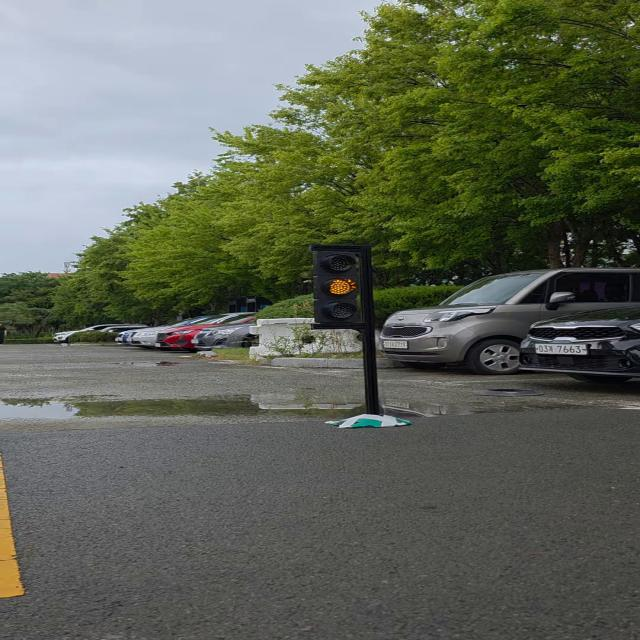yellow: (307, 242, 373, 336)
